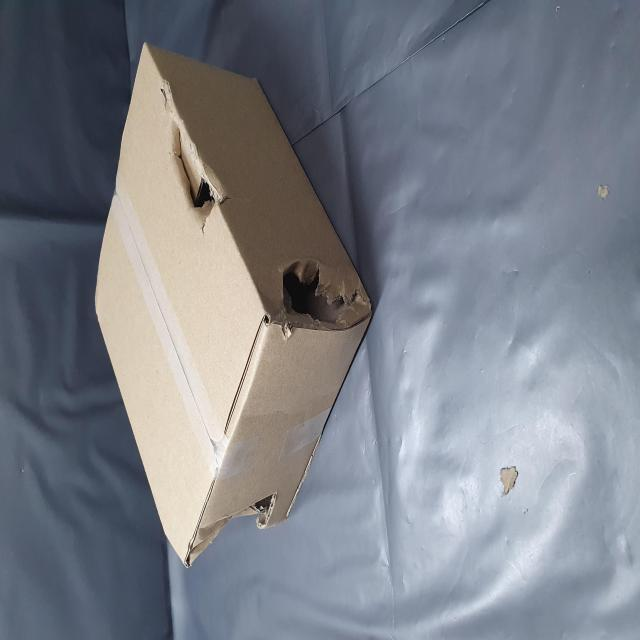damaged: (34, 317, 82, 492), (176, 495, 217, 640), (238, 300, 288, 402)
